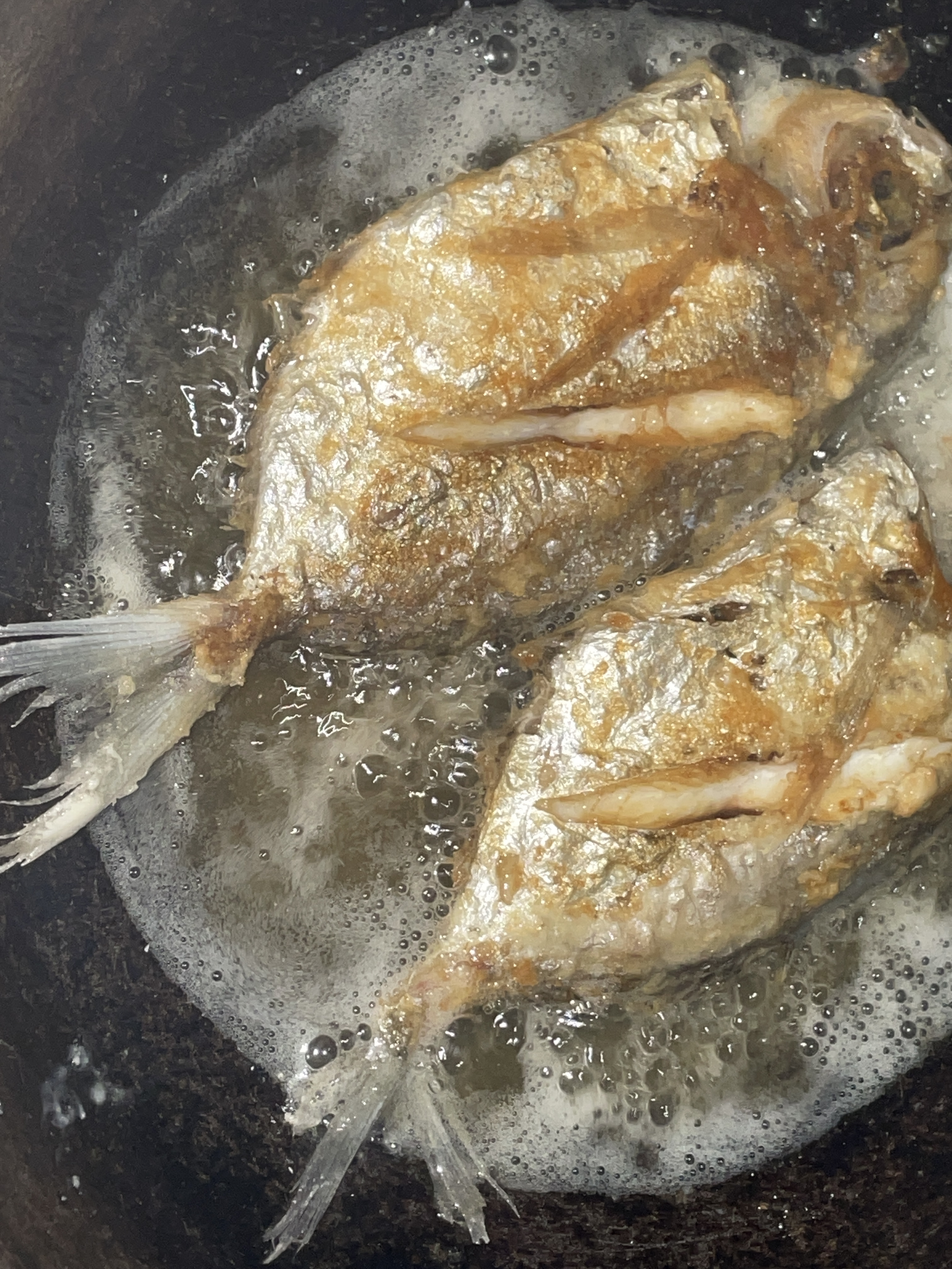non-reusable: (54, 9, 952, 1190)
